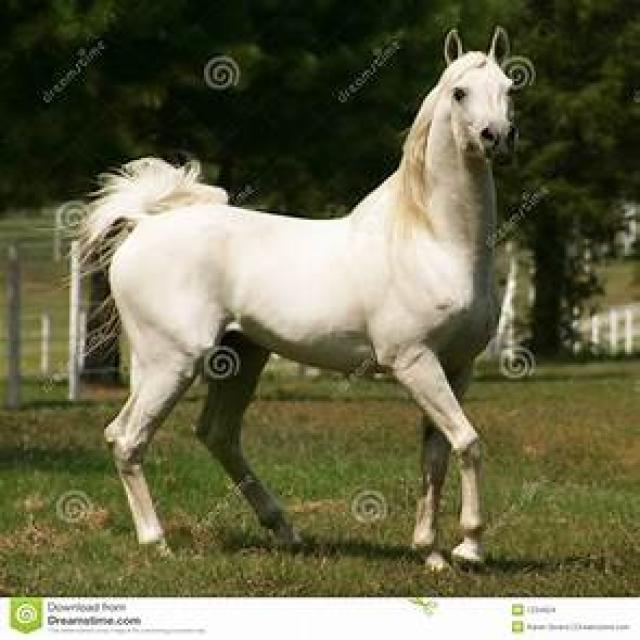horse: (78, 28, 536, 567)
